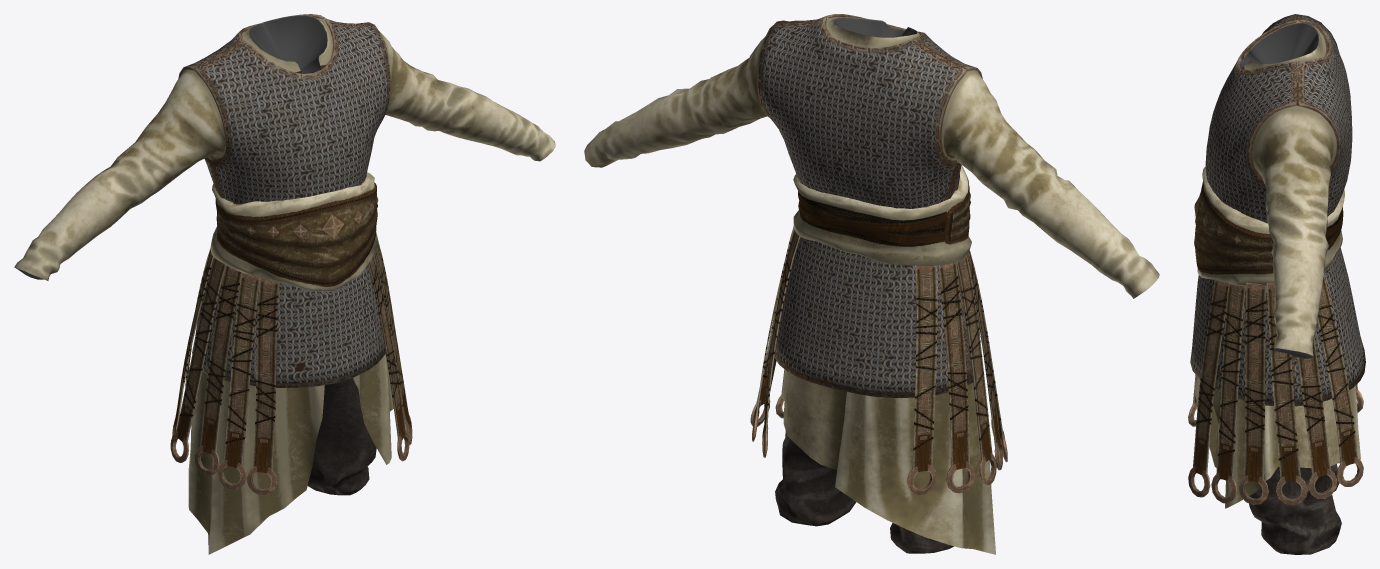
Rendered from dunland_caerdh_chainmail_heavy_f.fbx.
3 views of the same model, side by side, from view 1: azimuth 30°, elevation 25°; view 2: azimuth 150°, elevation 25°; view 3: azimuth 270°, elevation 25° (orthographic). The views are drawn at different scales.
Visible parts, largest first — view 1: dunland_caerdh_chainmail_heavy_f, dunland_caerdh_chainmail_heavy_f.straps, dunland_caerdh_chainmail_heavy_f.skirt, dunland_caerdh_chainmail_heavy_f.beltb; view 2: dunland_caerdh_chainmail_heavy_f, dunland_caerdh_chainmail_heavy_f.skirt, dunland_caerdh_chainmail_heavy_f.straps, dunland_caerdh_chainmail_heavy_f.beltb; view 3: dunland_caerdh_chainmail_heavy_f, dunland_caerdh_chainmail_heavy_f.straps, dunland_caerdh_chainmail_heavy_f.beltb, dunland_caerdh_chainmail_heavy_f.skirt.
Part boxes in pixels (left/top/right/bottom): dunland_caerdh_chainmail_heavy_f: left=14, top=14, right=555, bottom=495; dunland_caerdh_chainmail_heavy_f.straps: left=170, top=231, right=412, bottom=495; dunland_caerdh_chainmail_heavy_f.skirt: left=188, top=353, right=393, bottom=554; dunland_caerdh_chainmail_heavy_f.beltb: left=210, top=172, right=378, bottom=291; dunland_caerdh_chainmail_heavy_f: left=584, top=14, right=1159, bottom=553; dunland_caerdh_chainmail_heavy_f.skirt: left=781, top=370, right=995, bottom=554; dunland_caerdh_chainmail_heavy_f.straps: left=750, top=225, right=1007, bottom=495; dunland_caerdh_chainmail_heavy_f.beltb: left=793, top=165, right=971, bottom=265; dunland_caerdh_chainmail_heavy_f: left=1190, top=14, right=1365, bottom=554; dunland_caerdh_chainmail_heavy_f.straps: left=1188, top=273, right=1363, bottom=505; dunland_caerdh_chainmail_heavy_f.beltb: left=1194, top=166, right=1344, bottom=286; dunland_caerdh_chainmail_heavy_f.skirt: left=1194, top=375, right=1360, bottom=508.
Size of the model in its own units: 1.38 by 0.3921 by 1.21.
3 materials, 3 textured.
